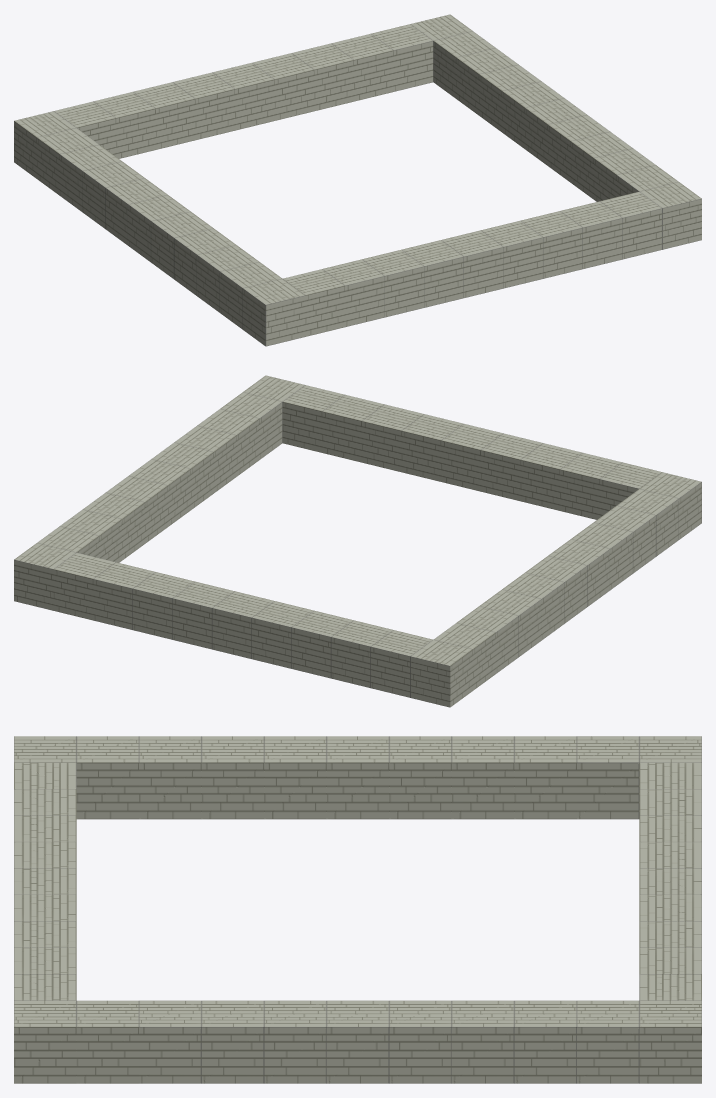
File: colosseum_Ver2.obj
3 views of the same model, one above another, from view 1: azimuth 30°, elevation 25°; view 2: azimuth 150°, elevation 25°; view 3: azimuth 270°, elevation 25° (orthographic). The views are drawn at different scales.
Visible parts, largest first — view 1: Cube.000_立方体.010, Cube.038_Cube.028, Cube.035_Cube.031, Cube.032_Cube.034, Cube.017_Cube.013, Cube.020_立方体.004, Cube.014_Cube.016, Cube.018_Cube.012, Cube.016_Cube.014, Cube.031_立方体.009, Cube.036_Cube.030, Cube.019_Cube.011 (+28 smaller); view 2: Cube.010_立方体.002, Cube.020_立方体.004, Cube.017_Cube.013, Cube.014_Cube.016, Cube.035_Cube.031, Cube.032_Cube.034, Cube.038_Cube.028, Cube.016_Cube.014, Cube.021_立方体.008, Cube.036_Cube.030, Cube.034_Cube.032, Cube.019_Cube.011 (+28 smaller); view 3: Cube.003, Cube.005, Cube.007, Cube.024_Cube.021, Cube.026_Cube.023, Cube.028_Cube.025, Cube.002, Cube.004, Cube.006, Cube.008, Cube.023_Cube.020, Cube.025_Cube.022 (+28 smaller).
Part boxes in pixels (box(x1,y1,x2,y2)): Cube.000_立方体.010: box(243, 278, 305, 346); Cube.038_Cube.028: box(362, 249, 424, 317); Cube.035_Cube.031: box(481, 220, 543, 288); Cube.032_Cube.034: box(600, 191, 662, 259); Cube.017_Cube.013: box(252, 53, 314, 120); Cube.020_立方体.004: box(371, 24, 433, 91); Cube.014_Cube.016: box(133, 82, 195, 149); Cube.018_Cube.012: box(292, 43, 353, 111); Cube.016_Cube.014: box(212, 63, 274, 130); Cube.031_立方体.009: box(640, 182, 701, 249); Cube.036_Cube.030: box(441, 230, 503, 297); Cube.019_Cube.011: box(331, 33, 393, 101); Cube.010_立方体.002: box(410, 639, 472, 707); Cube.020_立方体.004: box(53, 552, 115, 620); Cube.017_Cube.013: box(172, 581, 234, 649); Cube.014_Cube.016: box(291, 610, 353, 678); Cube.035_Cube.031: box(401, 414, 463, 481); Cube.032_Cube.034: box(282, 385, 344, 452); Cube.038_Cube.028: box(520, 443, 582, 510); Cube.016_Cube.014: box(212, 591, 274, 658); Cube.021_立方体.008: box(14, 543, 75, 610); Cube.036_Cube.030: box(441, 424, 503, 491); Cube.034_Cube.032: box(362, 404, 423, 472); Cube.019_Cube.011: box(93, 562, 155, 629); Cube.003: box(201, 736, 264, 819); Cube.005: box(326, 736, 389, 819); Cube.007: box(451, 736, 514, 819); Cube.024_Cube.021: box(451, 1000, 514, 1083); Cube.026_Cube.023: box(326, 1000, 389, 1083); Cube.028_Cube.025: box(201, 1000, 264, 1083); Cube.002: box(139, 736, 201, 819); Cube.004: box(264, 736, 326, 819); Cube.006: box(389, 736, 451, 819); Cube.008: box(514, 736, 576, 819); Cube.023_Cube.020: box(514, 1000, 576, 1083); Cube.025_Cube.022: box(389, 1000, 451, 1083).
Bounding box in the file's own units: 22 × 2 × 22.
